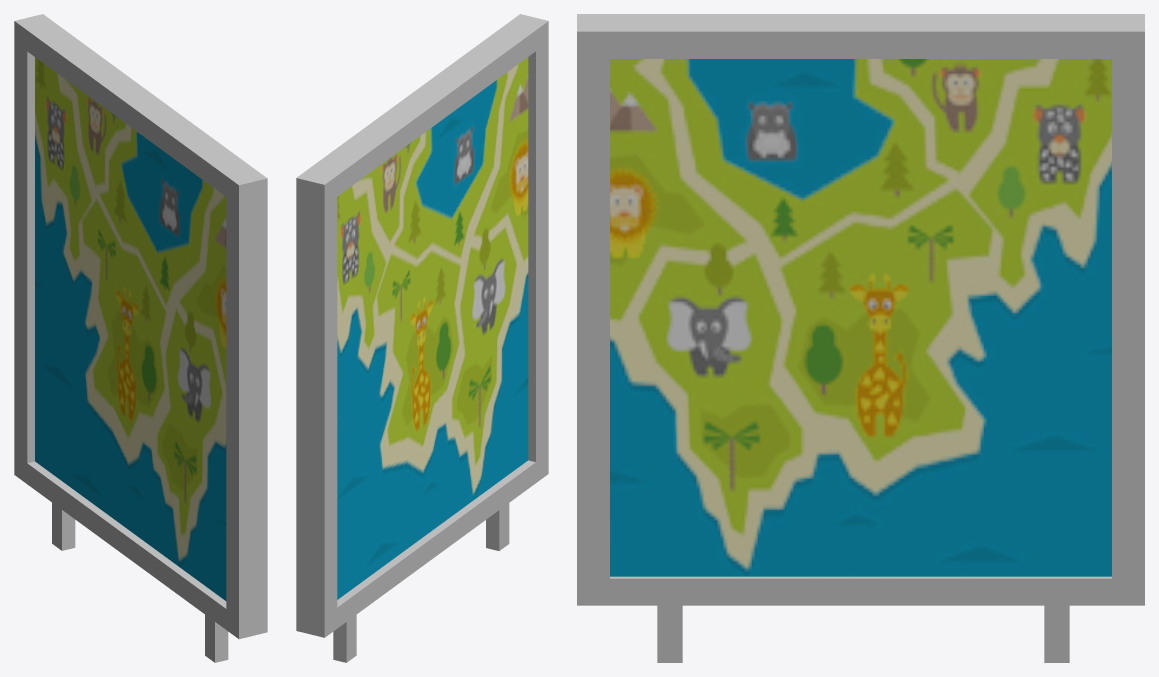
The model's file is ggchezhan_04.FBX.
3 views of the same model, side by side, from view 1: azimuth 30°, elevation 25°; view 2: azimuth 150°, elevation 25°; view 3: azimuth 270°, elevation 25° (orthographic). The views are drawn at different scales.
Parts seen in each view (by area): view 1: ggchezhan_04; view 2: ggchezhan_04; view 3: ggchezhan_04.
Boxes of the visible parts, x1,y1,x2,y2 form: ggchezhan_04: (14, 14, 267, 662); ggchezhan_04: (296, 14, 548, 662); ggchezhan_04: (577, 14, 1144, 662).
Size of the model in its own units: 34.15 by 575 by 465.
